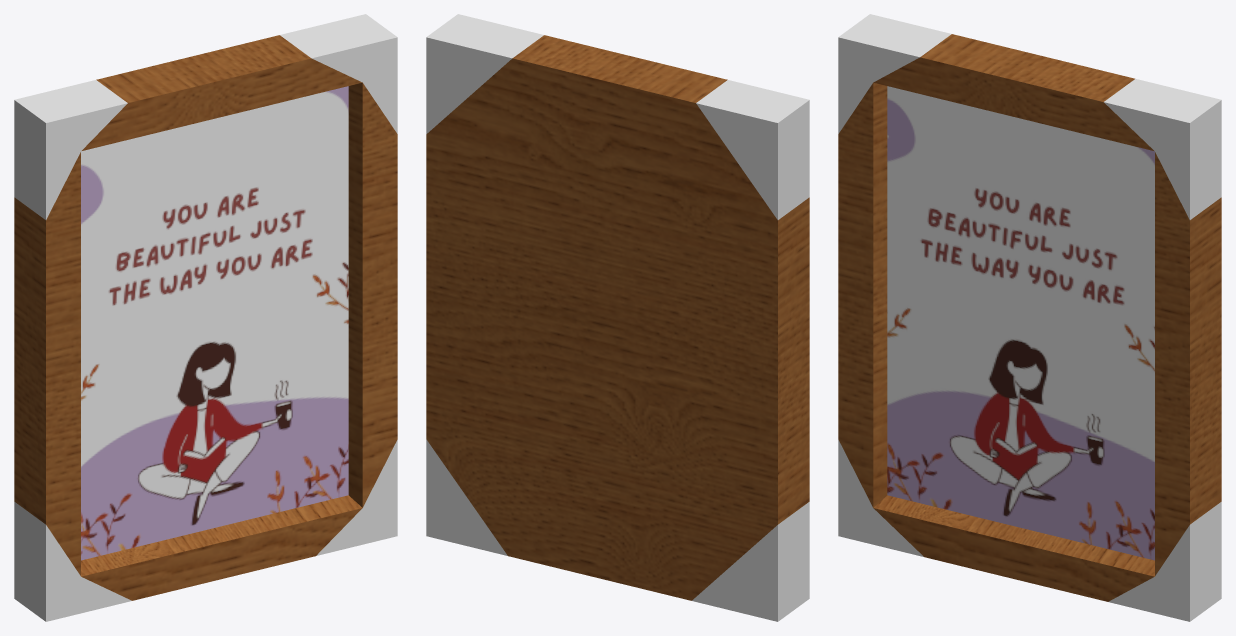
The model's file is PostiveFrame5.fbx.
3 views of the same model, side by side, from view 1: azimuth 30°, elevation 25°; view 2: azimuth 150°, elevation 25°; view 3: azimuth 330°, elevation 25° (orthographic).
Parts seen in each view (by area): view 1: pCube210; view 2: pCube210; view 3: pCube210.
Part boxes in pixels (x1,y1,x2,y2): pCube210: (14,14,397,621); pCube210: (426,14,809,621); pCube210: (838,14,1221,621).
Size of the model in its own units: 0.8624 by 1.17 by 0.1355.
